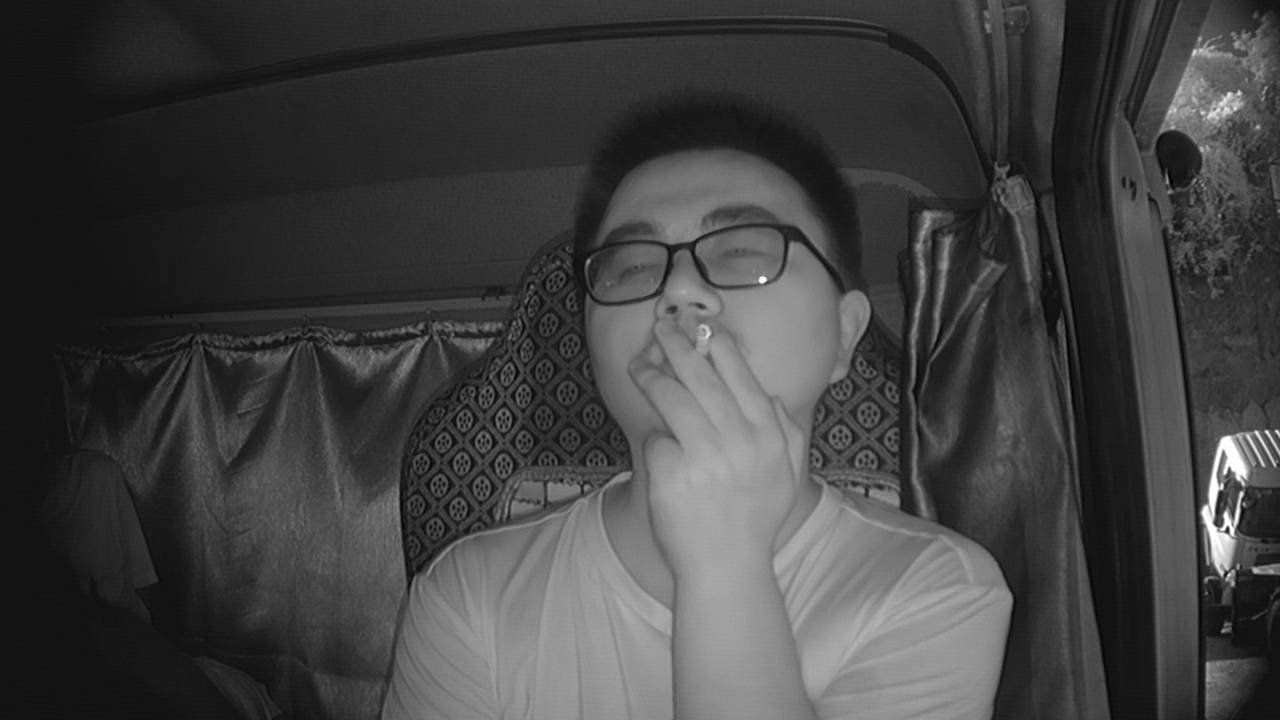hand: (633, 314, 805, 522)
